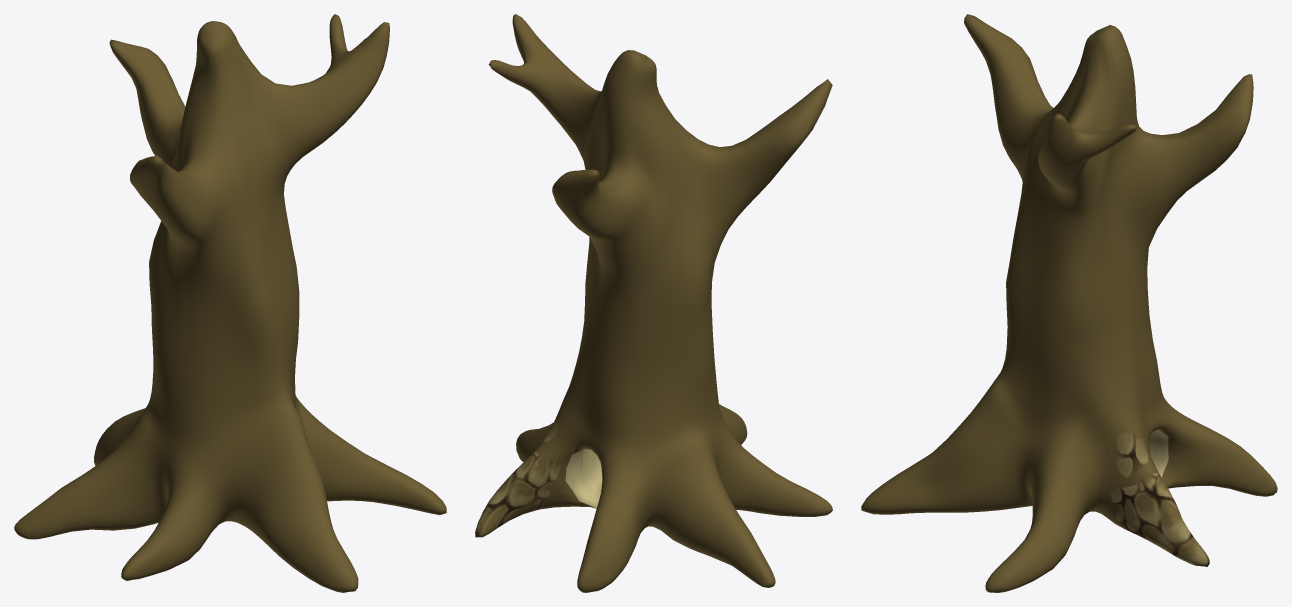
The model's file is NewStartingTree.fbx.
3 views of the same model, side by side, from view 1: azimuth 30°, elevation 25°; view 2: azimuth 150°, elevation 25°; view 3: azimuth 270°, elevation 25° (orthographic). The views are drawn at different scales.
Parts seen in each view (by area): view 1: Tree; view 2: Tree; view 3: Tree.
Part boxes in pixels (bbox=[...]): Tree: bbox=[14, 14, 446, 592]; Tree: bbox=[475, 14, 832, 592]; Tree: bbox=[861, 14, 1277, 592].
Size of the model in its own units: 227 by 310 by 240.
1 material, 1 textured.
